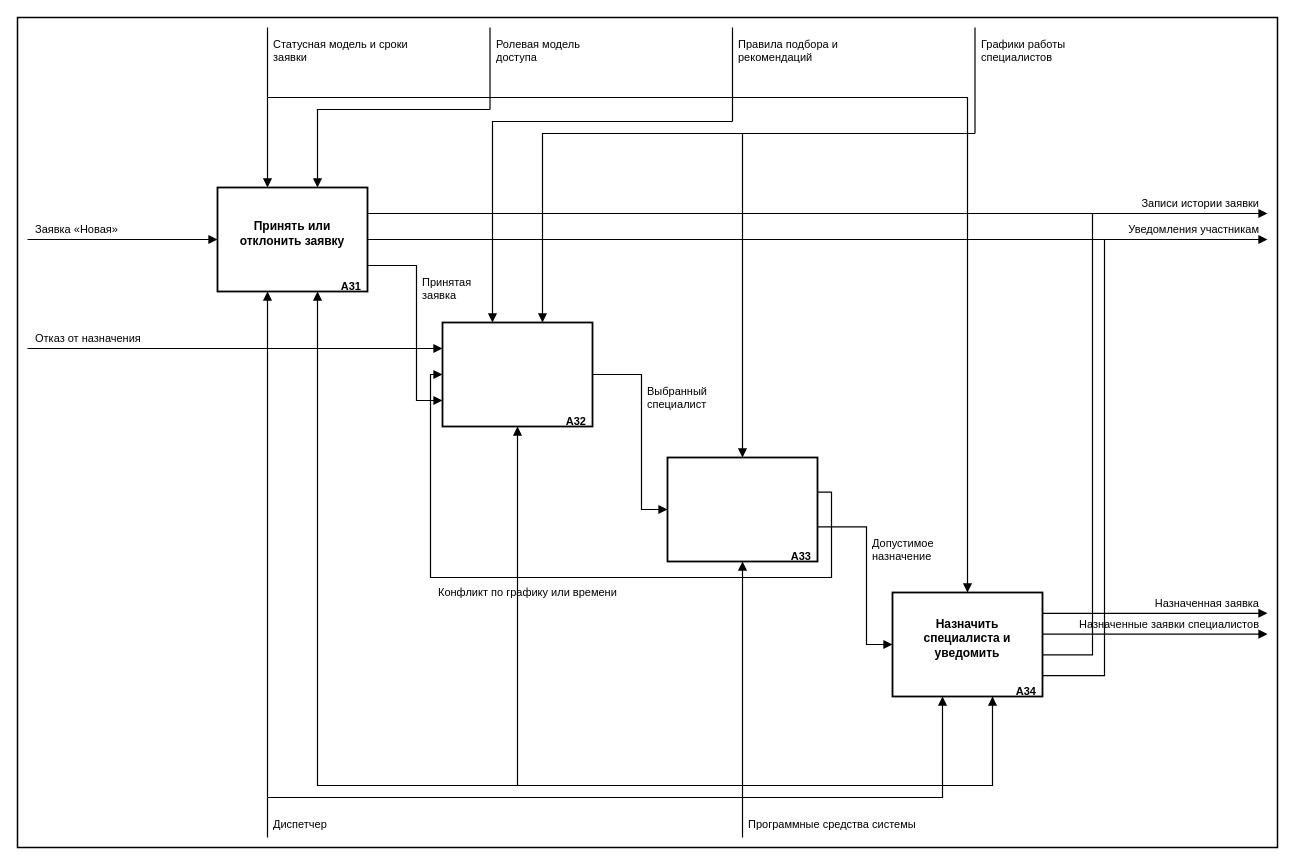
This 1296x866 diagram has some shape labels left out. The shapes that lost their labels are listed below. From the top down, each one's box as (x1, y1, x2, y2) in pixels, then its label:
(441, 321, 593, 427): Подобрать рекомендуемых специалистов
(666, 456, 818, 562): Проверить рабочий день и пересечения
